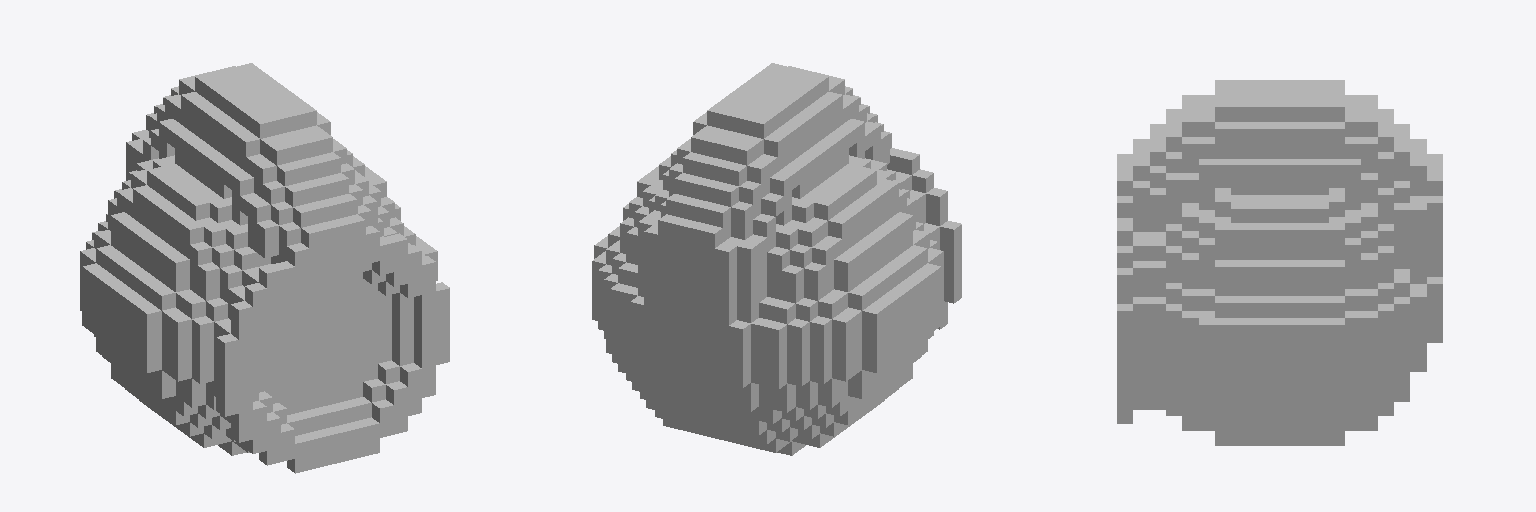
Rendered from Raytomatons Model Testing-2-Head.obj.
3 views of the same model, side by side, from view 1: azimuth 30°, elevation 25°; view 2: azimuth 150°, elevation 25°; view 3: azimuth 270°, elevation 25° (orthographic).
Parts seen in each view (by area): view 1: Head; view 2: Head; view 3: Head.
Boxes of the visible parts, box(x1,y1,x2,y2) form: Head: box(80, 63, 449, 473); Head: box(592, 63, 961, 455); Head: box(1117, 80, 1442, 445).
Bounding box in the file's own units: 2 × 2.2 × 2.